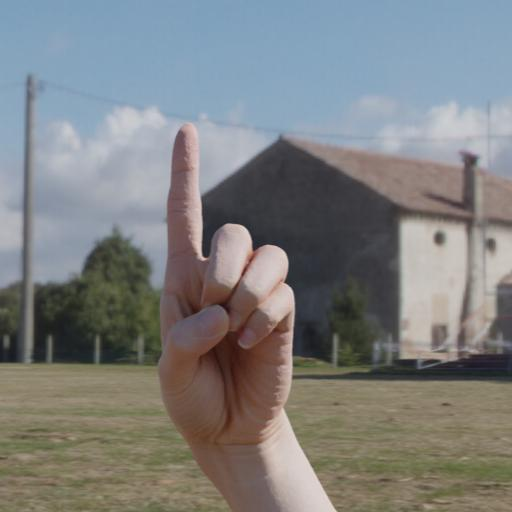D: (129, 95, 317, 451)
